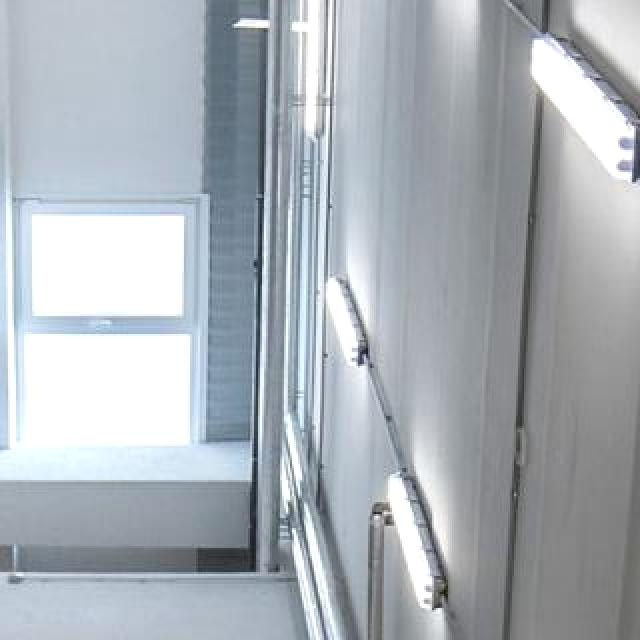fluorescent tube: (514, 22, 640, 194), (378, 464, 464, 631), (307, 269, 382, 373)
